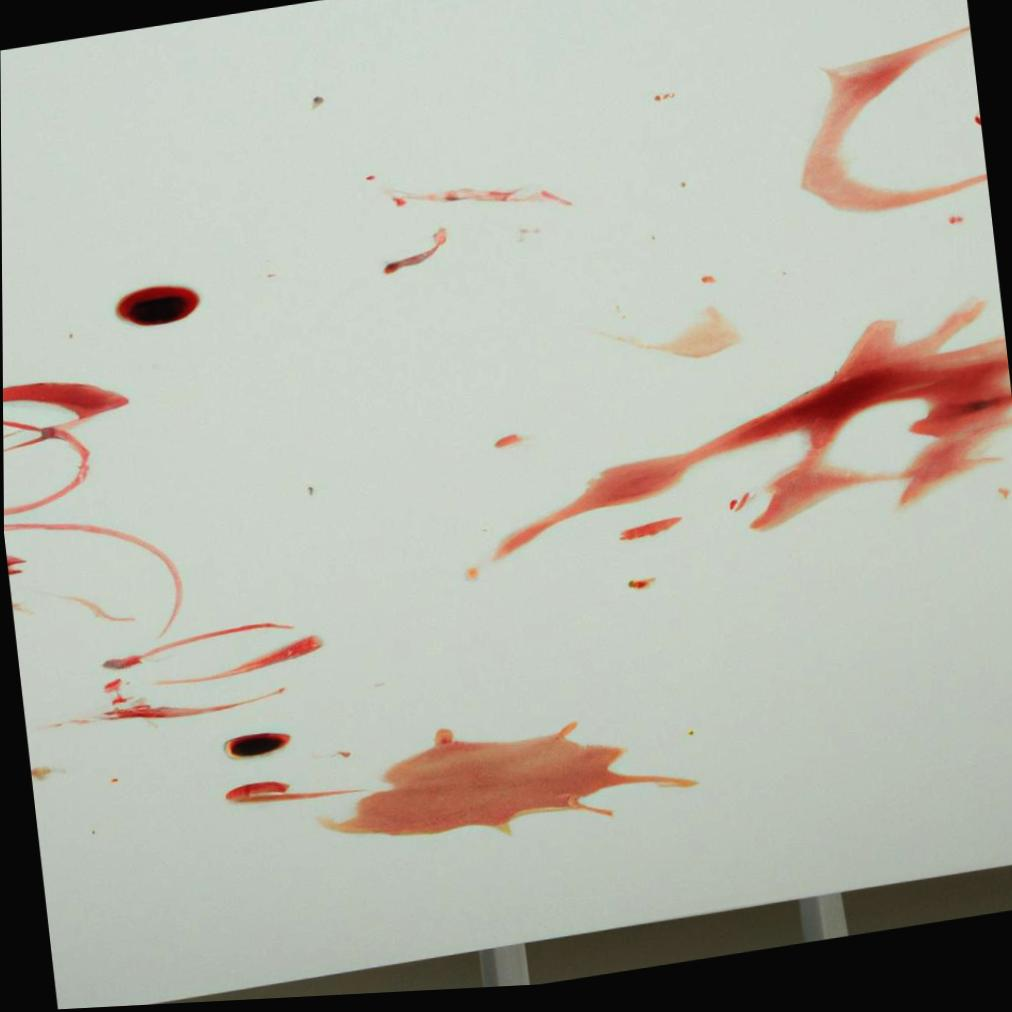Fire: (115, 286, 199, 327), (222, 734, 291, 762)
